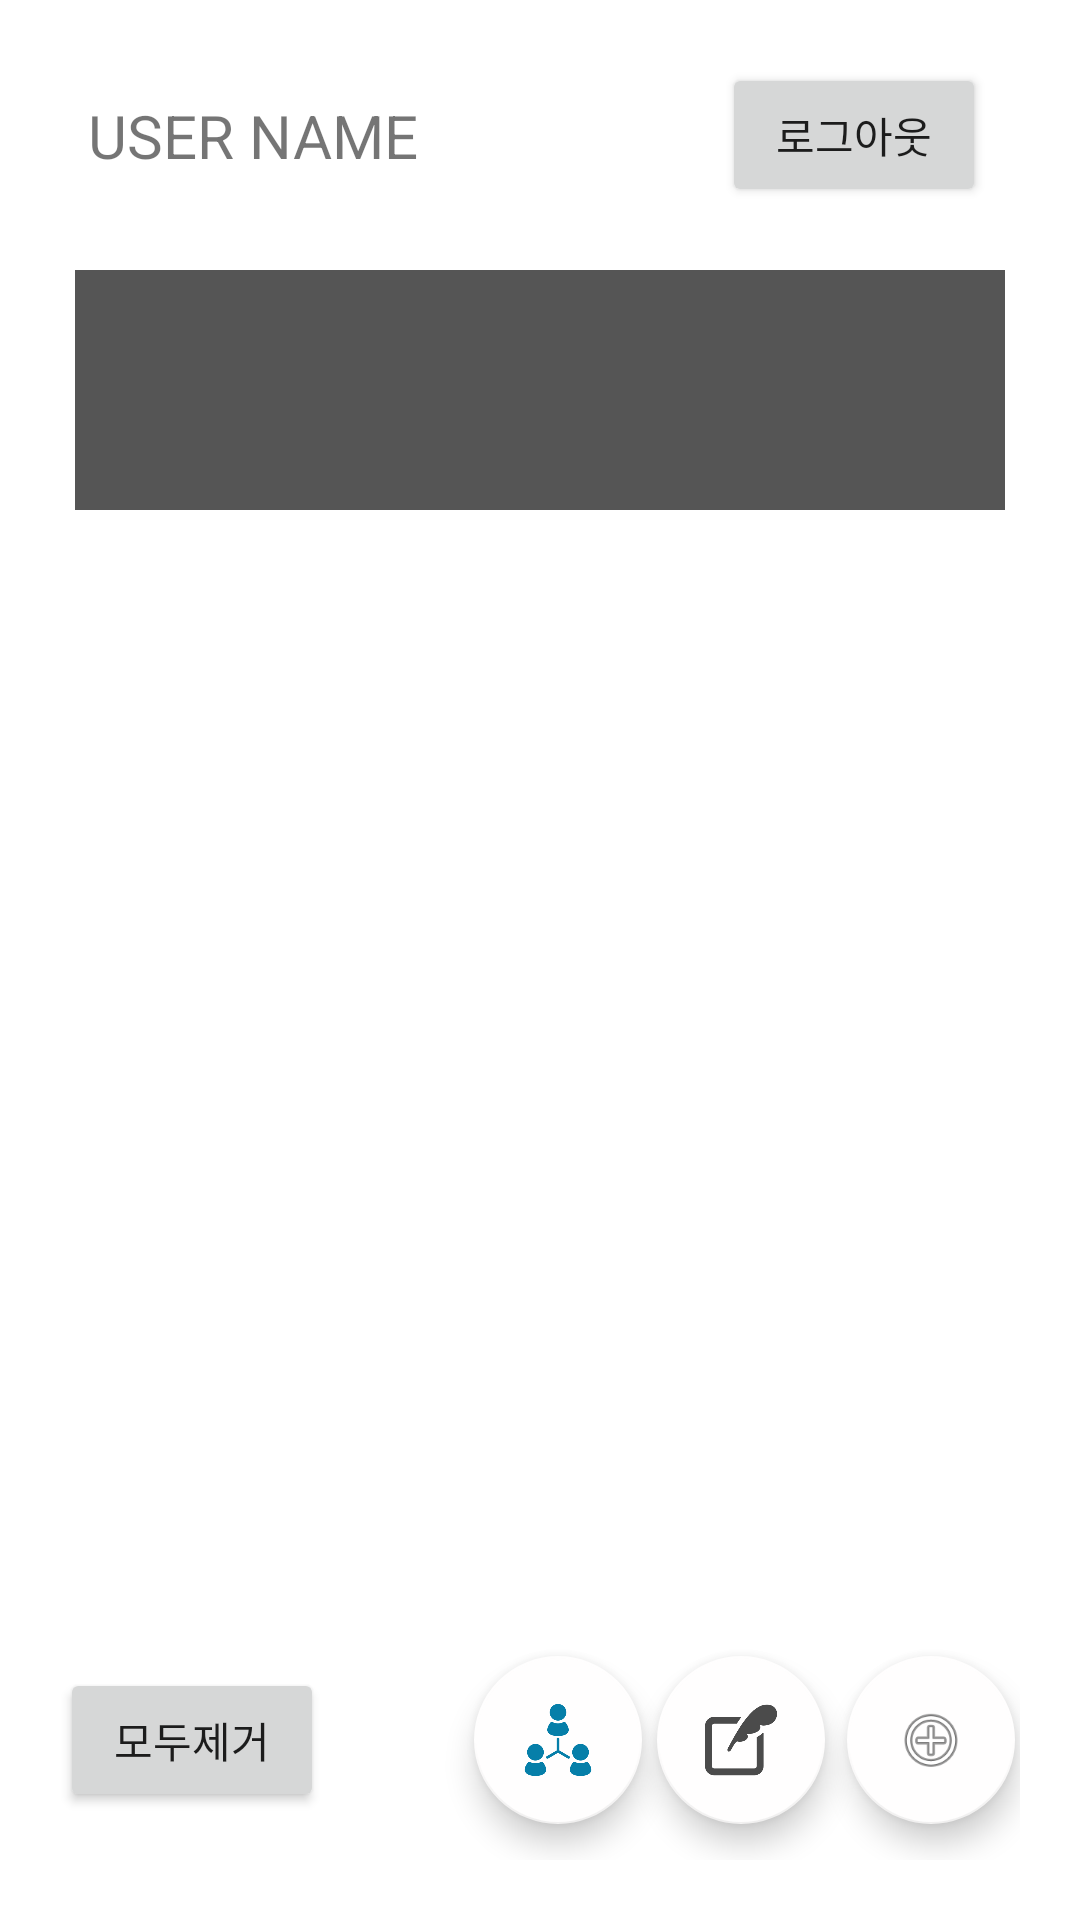

Point at icon controls on the screen. Image size 1080*1920, points as (x=x, y=y).
community: (x=558, y=1740)
write: (x=741, y=1740)
